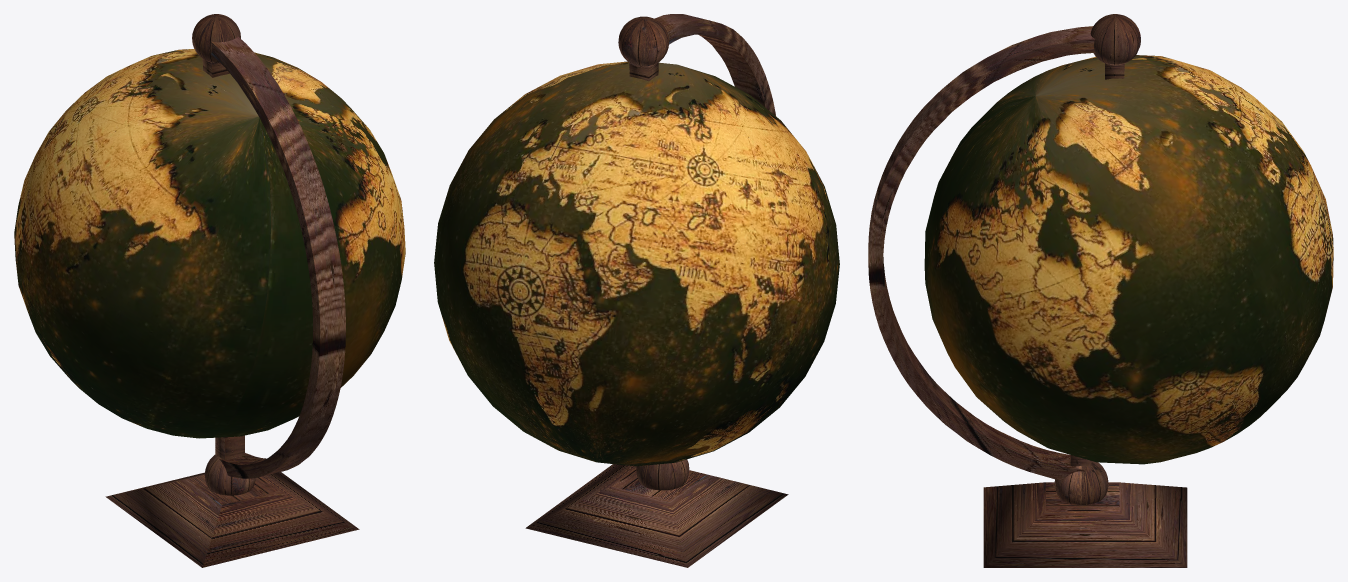
File: optimized_globe.glb
The picture shows the model from 3 angles, left to right: view 1: azimuth 30°, elevation 25°; view 2: azimuth 150°, elevation 25°; view 3: azimuth 270°, elevation 25°; orthographic projection. The views are drawn at different scales.
Parts seen in each view (by area): view 1: Globe_Globe_Texture_0, Globe_Stand_part-1_Globe_Stand_Mat-1.001_0, Globe_Stand_part-2_Globe_Stand_Mat-1_0; view 2: Globe_Globe_Texture_0, Globe_Stand_part-1_Globe_Stand_Mat-1.001_0, Globe_Stand_part-2_Globe_Stand_Mat-1_0; view 3: Globe_Globe_Texture_0, Globe_Stand_part-1_Globe_Stand_Mat-1.001_0, Globe_Stand_part-2_Globe_Stand_Mat-1_0.
Boxes of the visible parts, <box> form: Globe_Globe_Texture_0: <box>14,49,405,438</box>; Globe_Stand_part-1_Globe_Stand_Mat-1.001_0: <box>105,14,359,567</box>; Globe_Stand_part-2_Globe_Stand_Mat-1_0: <box>211,36,345,478</box>; Globe_Globe_Texture_0: <box>434,61,839,466</box>; Globe_Stand_part-1_Globe_Stand_Mat-1.001_0: <box>525,16,788,567</box>; Globe_Stand_part-2_Globe_Stand_Mat-1_0: <box>654,14,775,115</box>; Globe_Globe_Texture_0: <box>924,55,1333,464</box>; Globe_Stand_part-1_Globe_Stand_Mat-1.001_0: <box>983,14,1187,567</box>; Globe_Stand_part-2_Globe_Stand_Mat-1_0: <box>868,26,1095,480</box>.
Bounding box in the file's own units: 0.3961 × 0.5452 × 0.4504.
3 materials, 3 textured.
